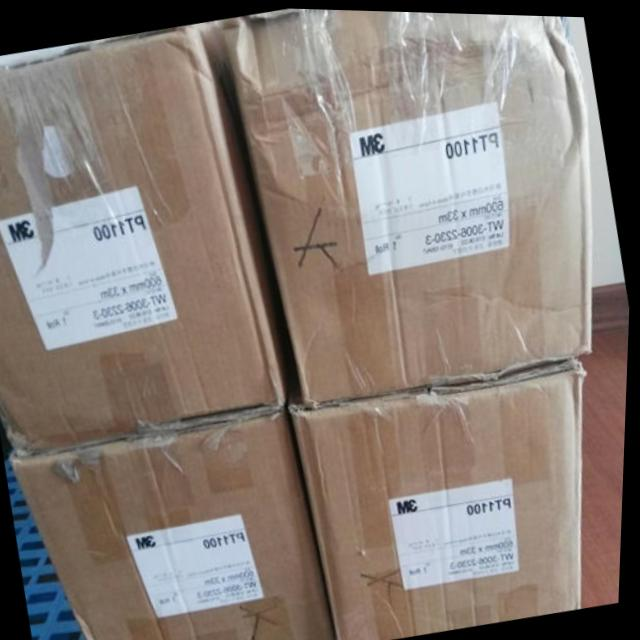box: (218, 7, 596, 407), (0, 21, 290, 456), (292, 355, 587, 640), (14, 403, 340, 640)
